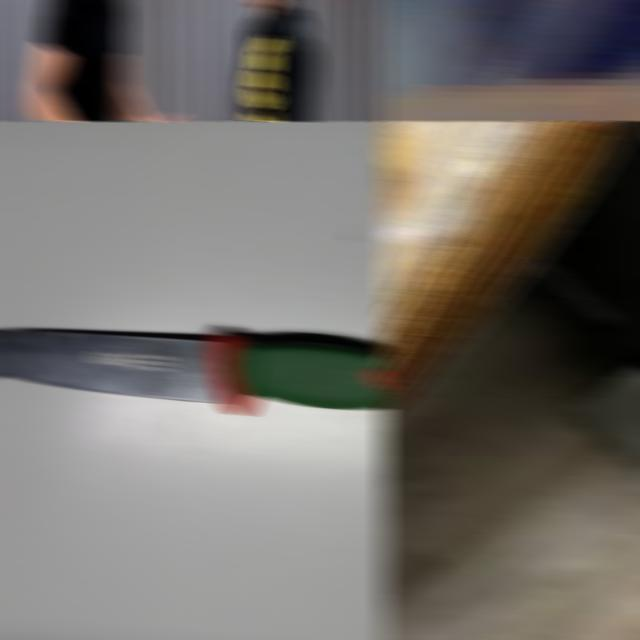Knife: (0, 327, 389, 415)
Knife_Handle: (379, 0, 640, 121)
